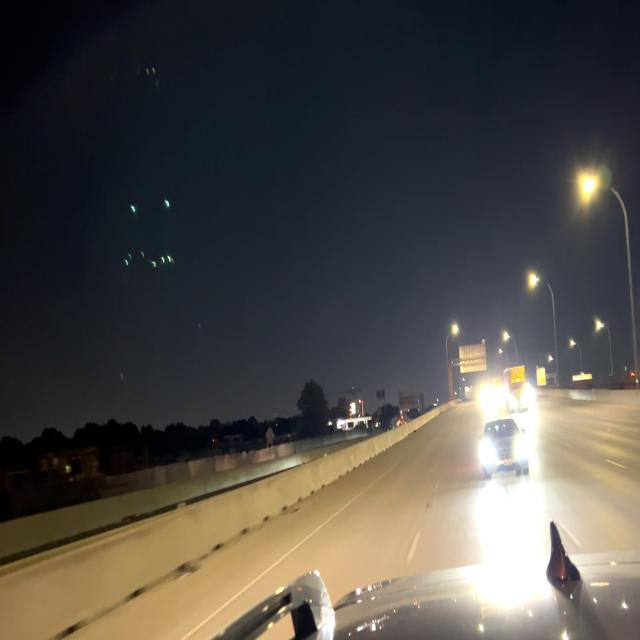back-of-sign: (458, 336, 487, 373)
